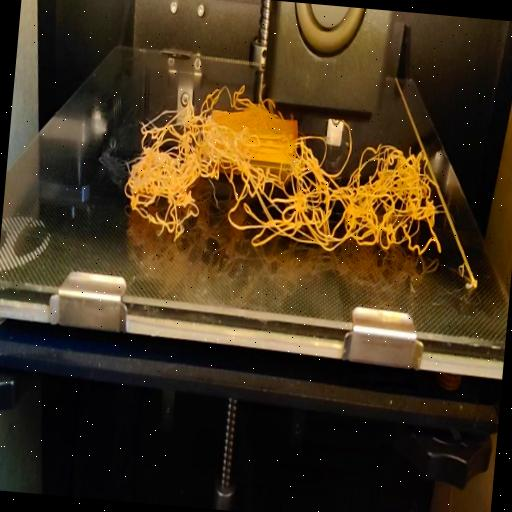spaghetti: (119, 92, 450, 264)
